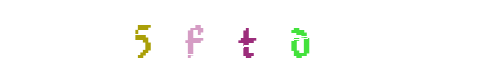5: (103, 0, 183, 80)
D: (259, 0, 339, 80)
F: (179, 0, 259, 80)
T: (200, 0, 280, 80)
